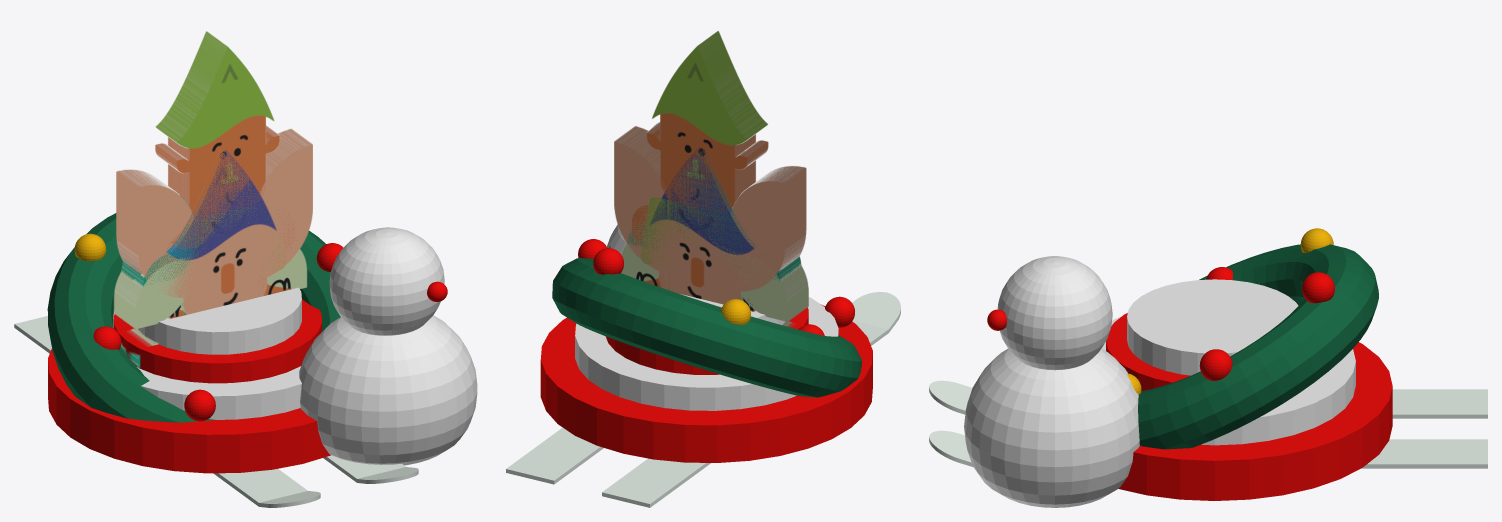
3 renders of one model, left to right at view 1: azimuth 30°, elevation 25°; view 2: azimuth 150°, elevation 25°; view 3: azimuth 270°, elevation 25°, orthographic. The views are drawn at different scales.
Visible parts, largest first — view 1: Cylinder.001, 7@2x, Sphere.006, 9@2x, Torus.001, Sphere.007, 8@2x, 6@2x.001, Cube.011, Cube.012, Sphere.001, Sphere.005 (+1 smaller); view 2: Cylinder.001, 7@2x, Torus.001, 9@2x, 8@2x, Cube.011, Cube.012, 6@2x.001, Sphere.003, Sphere.001, Sphere.005; view 3: Cylinder.001, Sphere.006, Torus.001, Sphere.007, Cube.012, Cube.011, Sphere.003, Sphere.004.
Boxes of the visible parts, bbox=[...] form: Cylinder.001: bbox=[48, 284, 330, 473]; 7@2x: bbox=[116, 128, 312, 314]; Sphere.006: bbox=[299, 315, 477, 465]; 9@2x: bbox=[155, 31, 294, 318]; Torus.001: bbox=[47, 195, 340, 422]; Sphere.007: bbox=[329, 227, 444, 335]; 8@2x: bbox=[113, 191, 307, 345]; 6@2x.001: bbox=[121, 150, 291, 368]; Cube.011: bbox=[14, 316, 320, 507]; Cube.012: bbox=[323, 455, 418, 483]; Sphere.001: bbox=[184, 389, 215, 421]; Sphere.005: bbox=[74, 233, 106, 261]; Cylinder.001: bbox=[540, 278, 872, 462]; 7@2x: bbox=[614, 126, 806, 304]; Torus.001: bbox=[552, 258, 861, 397]; 9@2x: bbox=[631, 31, 768, 311]; 8@2x: bbox=[621, 147, 808, 326]; Cube.011: bbox=[602, 292, 900, 507]; Cube.012: bbox=[506, 269, 793, 484]; 6@2x.001: bbox=[627, 148, 801, 326]; Sphere.003: bbox=[593, 248, 623, 274]; Sphere.001: bbox=[825, 296, 854, 327]; Sphere.005: bbox=[721, 299, 750, 324]; Cylinder.001: bbox=[1101, 279, 1392, 500]; Sphere.006: bbox=[964, 348, 1139, 507]; Torus.001: bbox=[1138, 244, 1378, 449]; Sphere.007: bbox=[997, 256, 1112, 370]; Cube.012: bbox=[929, 430, 1487, 468]; Cube.011: bbox=[929, 380, 1487, 418]; Sphere.003: bbox=[1302, 272, 1334, 303]; Sphere.004: bbox=[1199, 349, 1232, 380].
Bounding box in the file's own units: 1.27 × 1.44 × 1.84.
11 materials, 4 textured.
